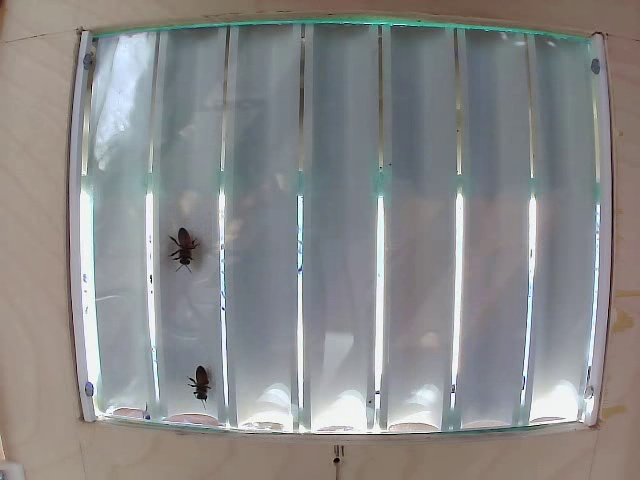bee: (171, 230, 224, 303), (179, 364, 216, 406)
